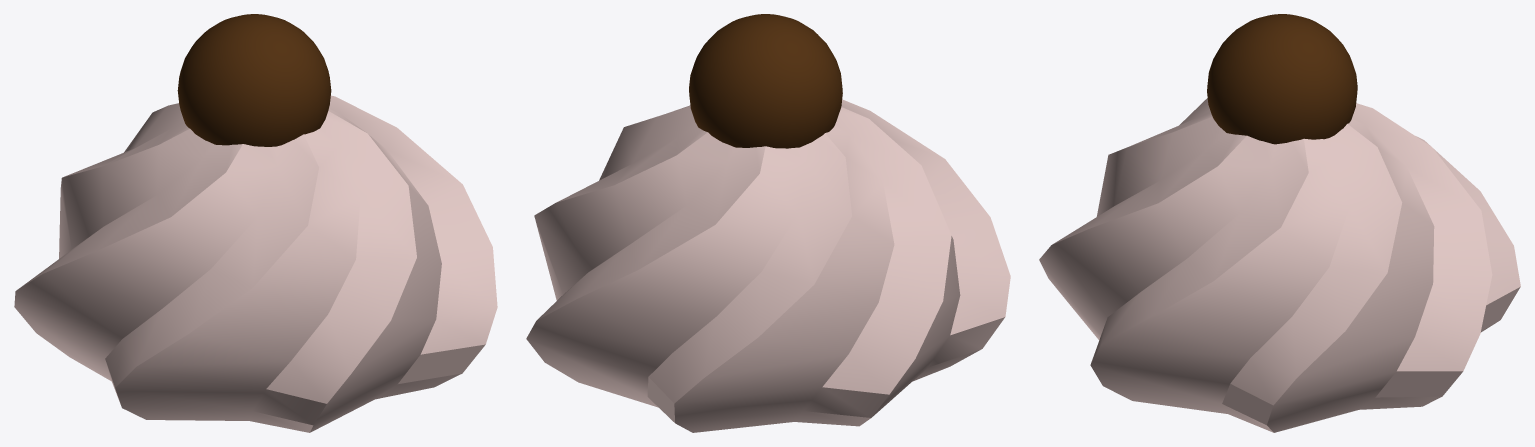
Rendered from cream-chocolate.glb.
3 renders of one model, left to right at view 1: azimuth 30°, elevation 25°; view 2: azimuth 150°, elevation 25°; view 3: azimuth 270°, elevation 25°, orthographic. The views are drawn at different scales.
Visible parts, largest first — view 1: cream; view 2: cream; view 3: cream.
Boxes of the visible parts, x1,y1,x2,y2 form: cream: (14,14,497,432); cream: (526,14,1010,432); cream: (1039,14,1520,432).
Size of the model in its own units: 11.33 by 8.79 by 11.62.
